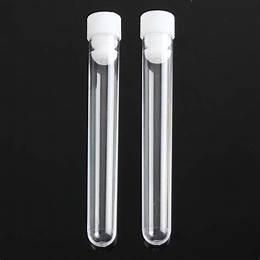Test tube: (79, 10, 119, 247)
object: (137, 15, 181, 239)
